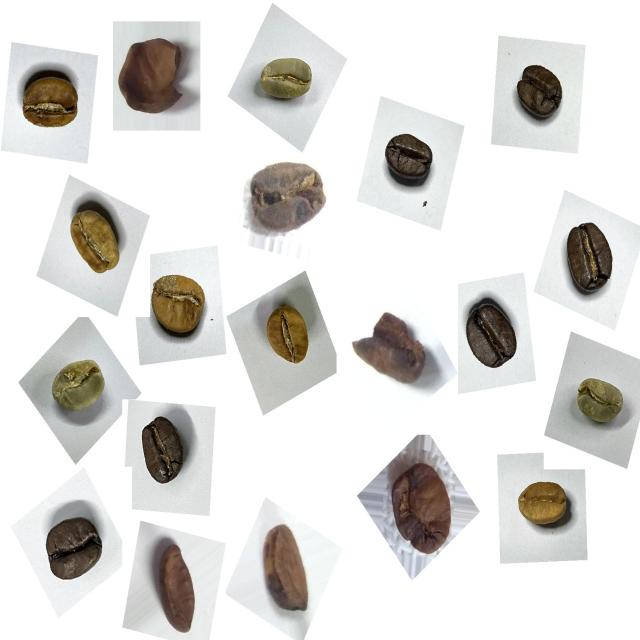bad: (380, 452, 465, 566), (111, 28, 196, 130), (244, 154, 334, 248), (352, 301, 436, 397), (252, 514, 322, 621), (147, 532, 212, 639)
dark: (36, 505, 113, 595), (458, 291, 530, 383), (375, 120, 442, 197)
green: (41, 350, 114, 430), (250, 44, 322, 116), (512, 54, 575, 128), (568, 367, 633, 437)
light: (57, 192, 130, 287), (139, 260, 214, 350), (12, 58, 89, 144), (254, 295, 320, 379), (510, 471, 580, 543)
medium: (554, 211, 628, 304), (132, 408, 198, 496)
